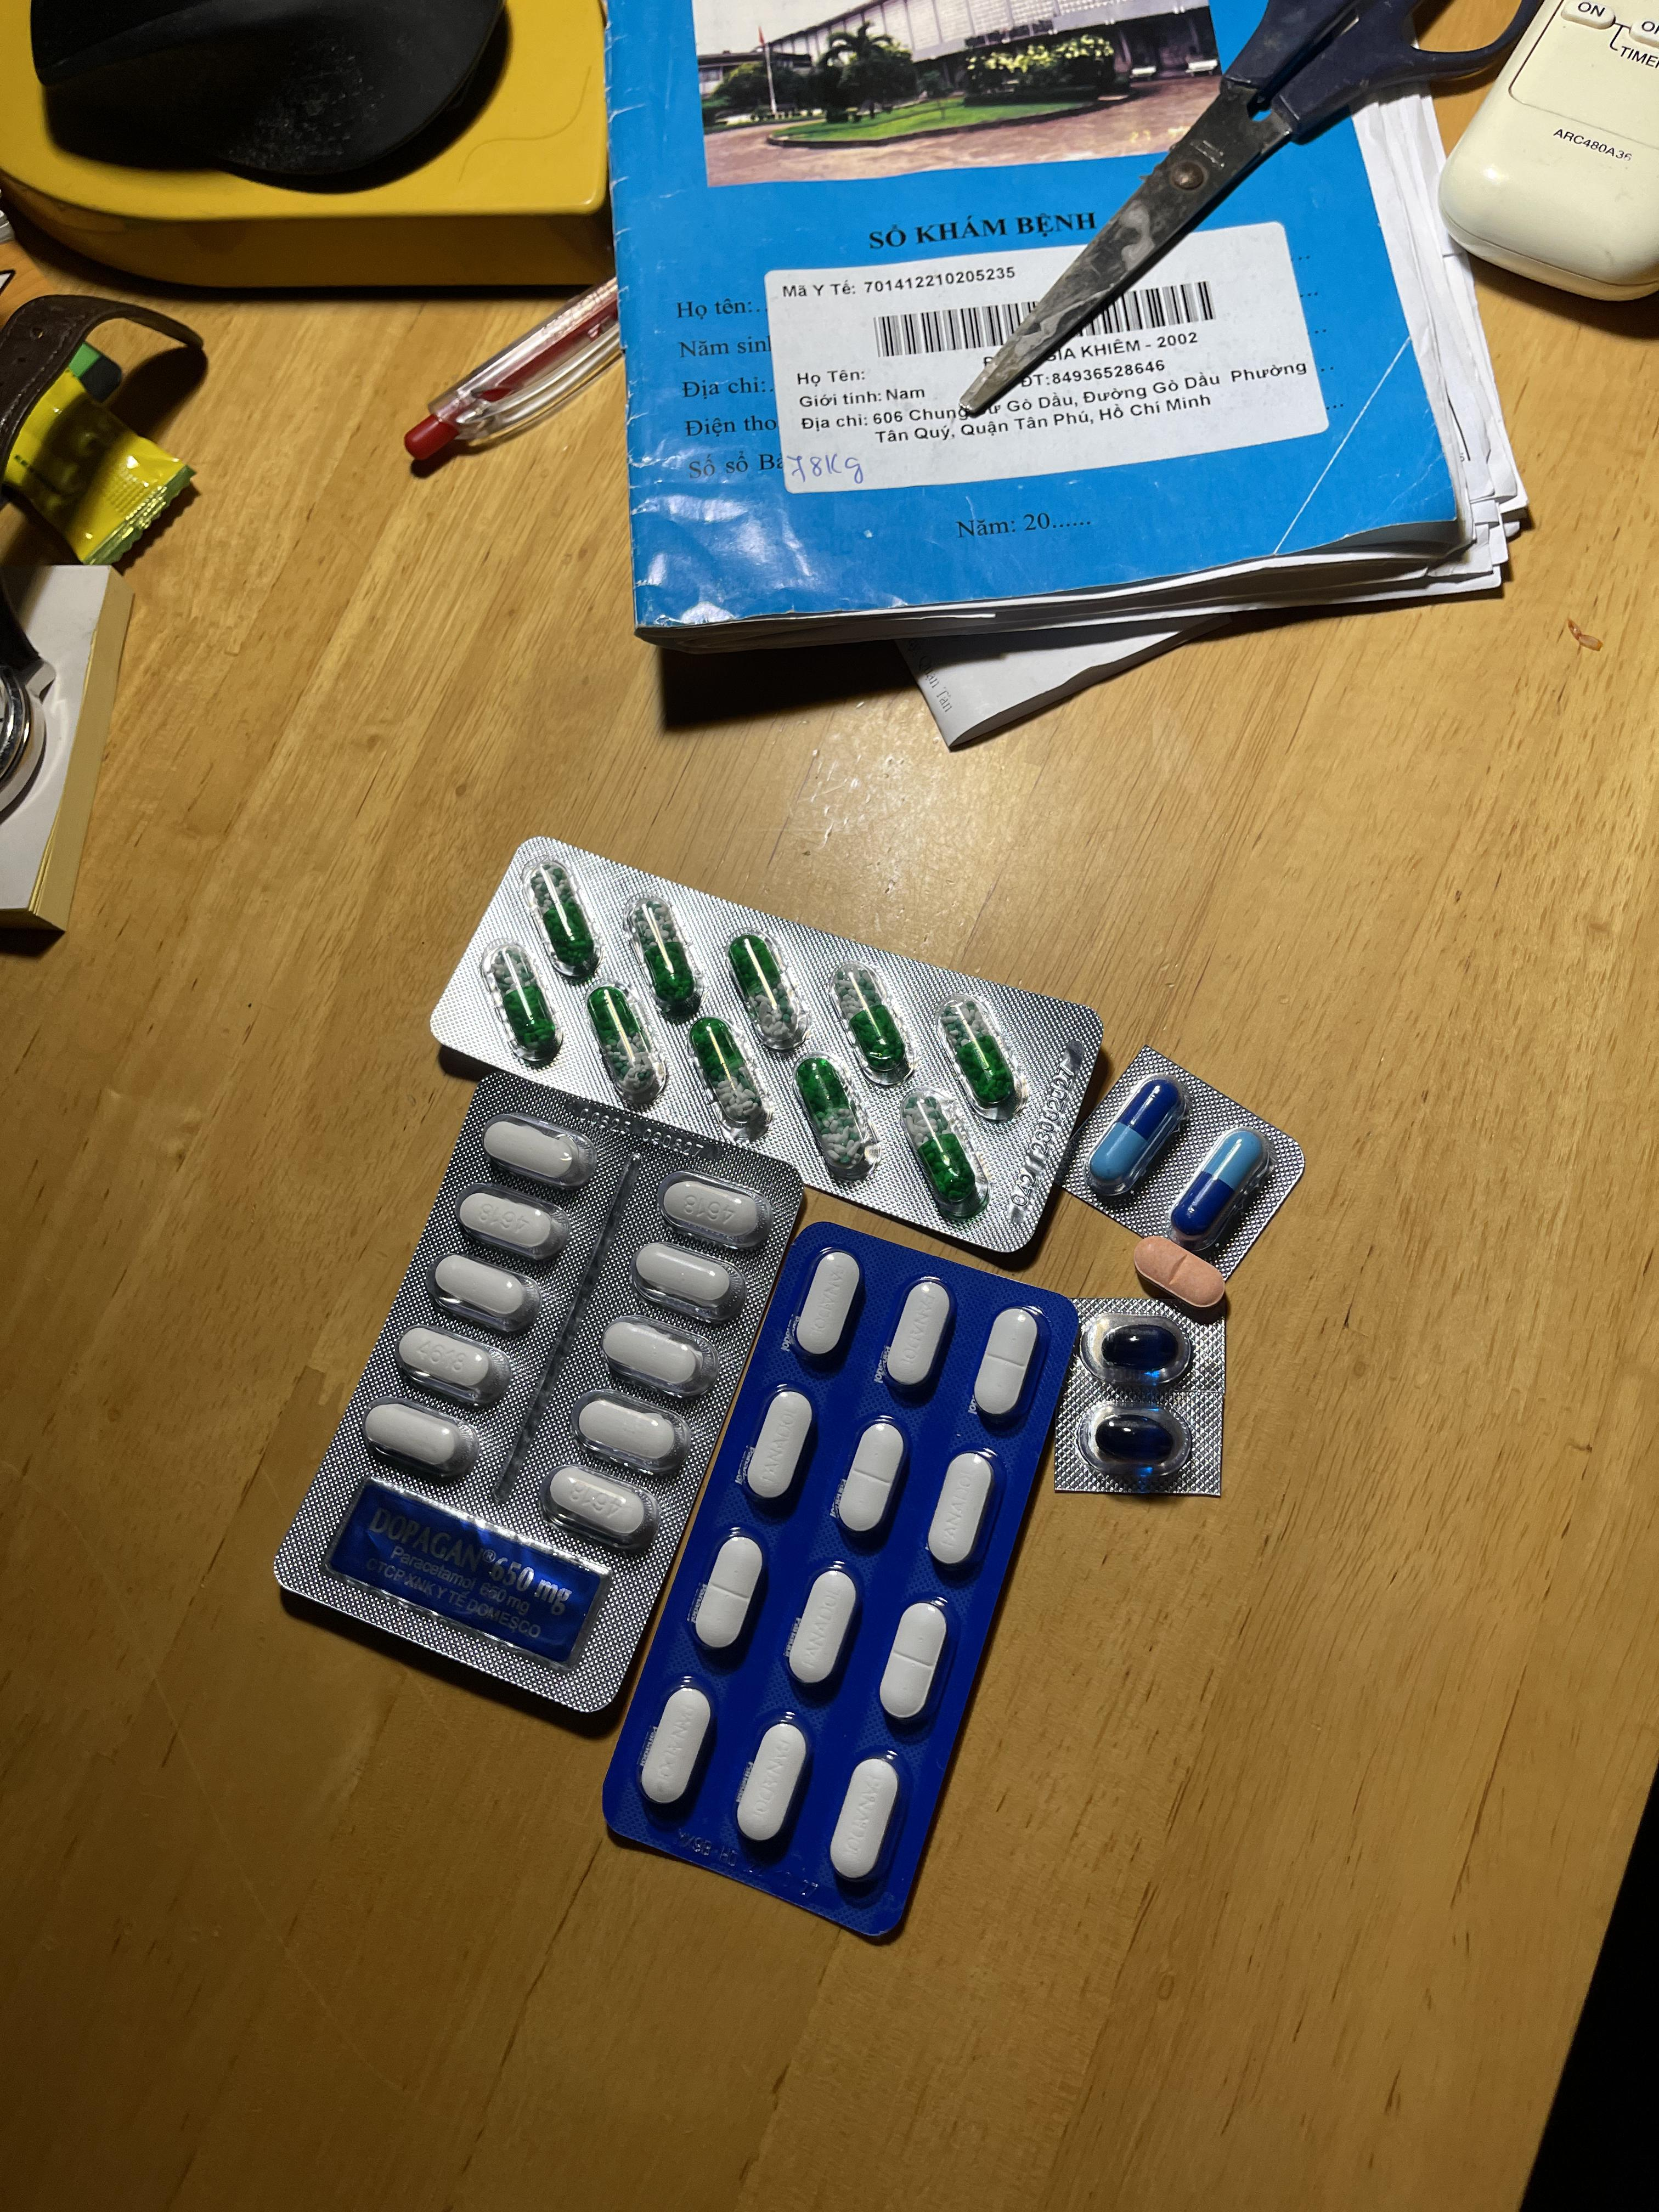Lincomyxin_500mg: (1100, 1322, 1182, 1376), (1096, 1414, 1176, 1463)
Loratadine_10mg: (1133, 1237, 1227, 1312)
Paracetamol_350mg: (737, 1719, 809, 1844), (640, 1684, 711, 1808), (831, 1756, 899, 1881), (788, 1566, 859, 1684), (880, 1599, 946, 1723), (836, 1421, 906, 1534), (694, 1536, 762, 1651), (927, 1453, 995, 1568), (741, 1393, 810, 1503), (884, 1280, 951, 1390), (793, 1251, 861, 1357), (974, 1308, 1039, 1418)
Paracetamol_500mg: (394, 1325, 519, 1402), (361, 1397, 481, 1475), (589, 1320, 704, 1392), (662, 1169, 774, 1242), (481, 1118, 599, 1184), (633, 1244, 739, 1313), (545, 1468, 650, 1538), (436, 1252, 542, 1320), (577, 1399, 678, 1467), (457, 1193, 558, 1256)
Paracetamol_650mg: (897, 1090, 988, 1212), (479, 937, 563, 1062), (938, 996, 1025, 1109), (587, 986, 669, 1103), (795, 1057, 871, 1174), (835, 965, 913, 1078), (687, 1017, 765, 1125), (734, 935, 809, 1045), (528, 864, 599, 977), (627, 897, 697, 1012)
pill: (1089, 1083, 1183, 1190), (1168, 1132, 1260, 1237)
